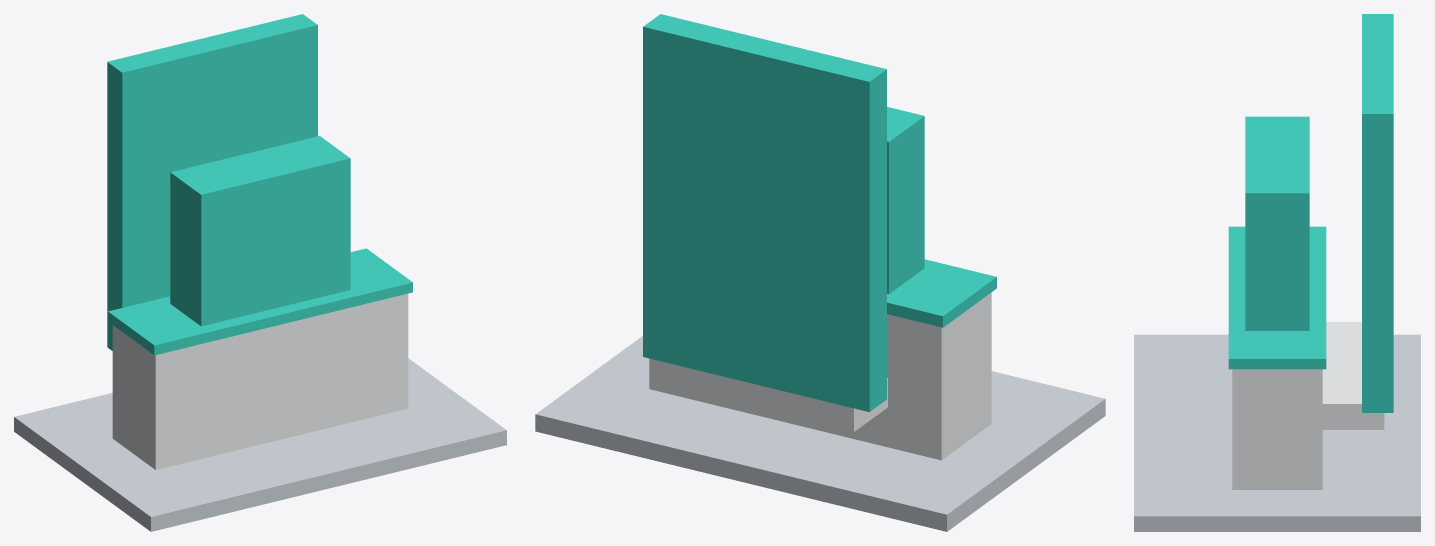
3 views of the same model, side by side, from view 1: azimuth 30°, elevation 25°; view 2: azimuth 150°, elevation 25°; view 3: azimuth 270°, elevation 25° (orthographic). The views are drawn at different scales.
Visible parts, largest first — view 1: Exhibition Booth Concept; view 2: Exhibition Booth Concept; view 3: Exhibition Booth Concept.
Boxes of the visible parts, x1=… form: Exhibition Booth Concept: x1=14, y1=14, x2=506, y2=531; Exhibition Booth Concept: x1=535, y1=14, x2=1105, y2=531; Exhibition Booth Concept: x1=1134, y1=14, x2=1420, y2=531.
Bounding box in the file's own units: 3 × 2.9 × 2.
